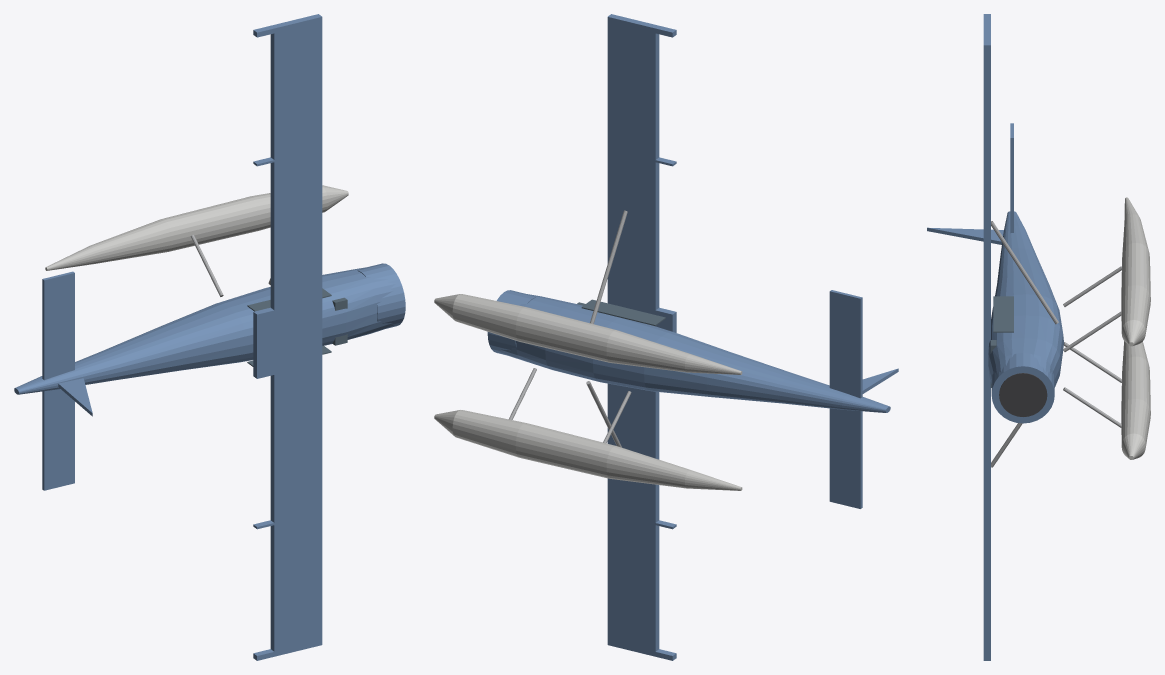
File: beaver_body_blue.glb
The picture shows the model from 3 angles, left to right: view 1: azimuth 30°, elevation 25°; view 2: azimuth 150°, elevation 25°; view 3: azimuth 270°, elevation 25°; orthographic projection. The views are drawn at different scales.
Parts seen in each view (by area): view 1: part15, part16, part0, part21, part19, part1, part20; view 2: part15, part16, part0, part24, part21, part19, part13, part1; view 3: part0, part21, part24, part15, part16, part1, part2, part13, part20, part17, part19.
Part boxes in pixels (left/top/right/bottom): part15: left=253, top=14, right=322, bottom=346; part16: left=253, top=331, right=322, bottom=660; part0: left=14, top=267, right=395, bottom=394; part21: left=45, top=185, right=348, bottom=270; part19: left=42, top=271, right=74, bottom=490; part1: left=357, top=263, right=405, bottom=328; part20: left=58, top=378, right=92, bottom=416; part15: left=607, top=14, right=676, bottom=332; part16: left=607, top=383, right=676, bottom=660; part0: left=498, top=294, right=890, bottom=412; part24: left=434, top=410, right=742, bottom=490; part21: left=434, top=294, right=742, bottom=374; part19: left=829, top=290, right=862, bottom=508; part13: left=581, top=299, right=665, bottom=326; part1: left=487, top=290, right=535, bottom=354; part0: left=988, top=211, right=1063, bottom=387; part21: left=1121, top=197, right=1150, bottom=346; part24: left=1121, top=341, right=1150, bottom=459; part15: left=983, top=14, right=990, bottom=352; part16: left=983, top=353, right=990, bottom=660; part1: left=991, top=353, right=1054, bottom=423; part2: left=999, top=373, right=1047, bottom=416; part13: left=993, top=296, right=1013, bottom=332; part20: left=927, top=227, right=1003, bottom=244; part17: left=991, top=221, right=1058, bottom=324; part19: left=1010, top=123, right=1013, bottom=233.
Bounding box in the file's own units: 9.55 × 14.63 × 4.82.
